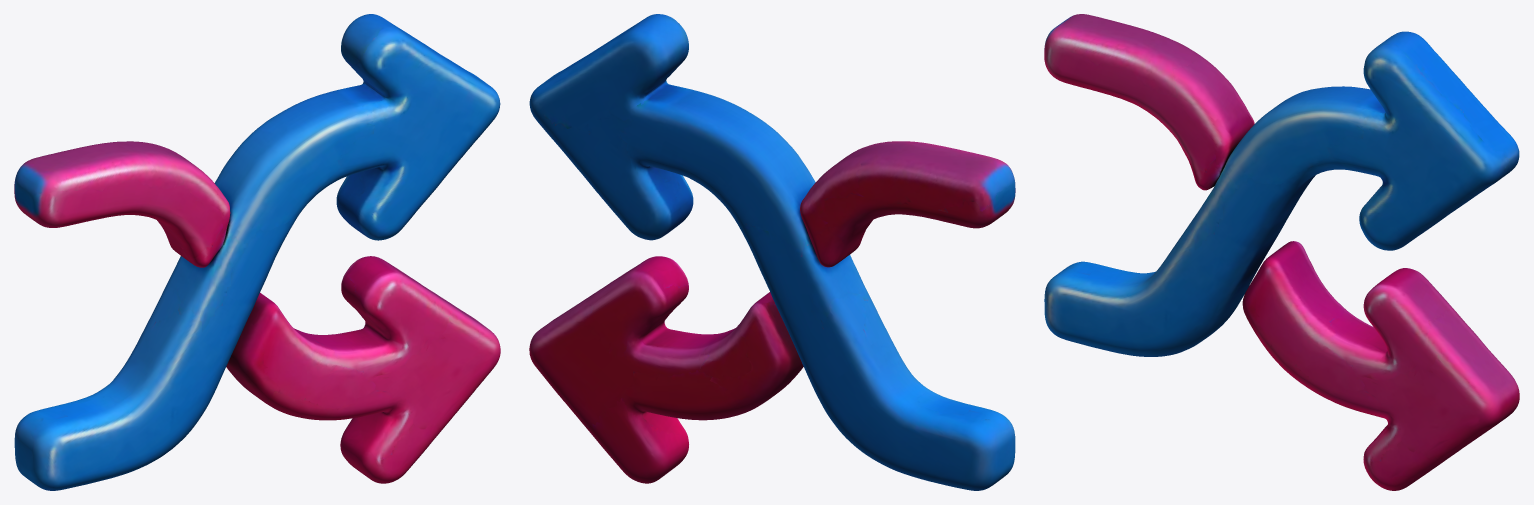
The model's file is alternate__main__r2__p1.glb.
3 renders of one model, left to right at view 1: azimuth 30°, elevation 25°; view 2: azimuth 150°, elevation 25°; view 3: azimuth 330°, elevation 25°, orthographic. The views are drawn at different scales.
Parts seen in each view (by area): view 1: model; view 2: model; view 3: model.
Boxes of the visible parts, bbox=[...] form: model: bbox=[14, 14, 500, 490]; model: bbox=[529, 14, 1015, 490]; model: bbox=[1044, 14, 1519, 490].
Bounding box in the file's own units: 1.76 × 1.64 × 0.2192.
1 material, 1 textured.
